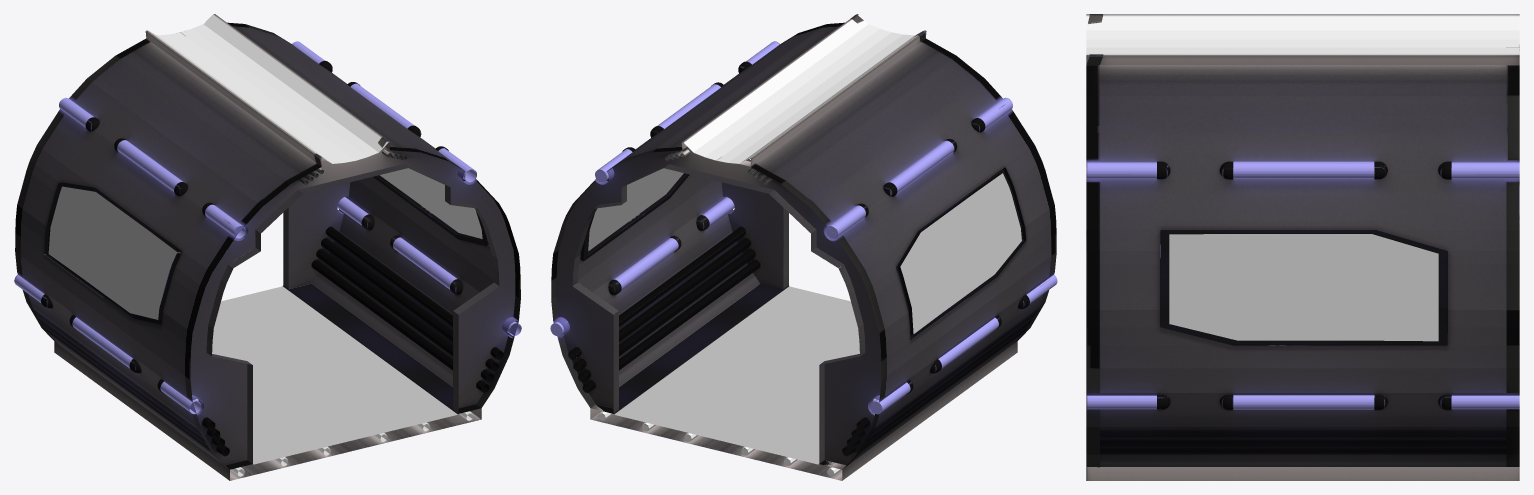
File: Modulo_corridoio.fbx
The picture shows the model from 3 angles, left to right: view 1: azimuth 30°, elevation 25°; view 2: azimuth 150°, elevation 25°; view 3: azimuth 270°, elevation 25°; orthographic projection. The views are drawn at different scales.
Parts seen in each view (by area): view 1: Corridoio_001, Pavimento_001, Vetri; view 2: Corridoio_001, Pavimento_001, Vetri; view 3: Corridoio_001, Vetri.
Boxes of the visible parts, x1=… form: Corridoio_001: x1=14, y1=14, x2=521, y2=480; Pavimento_001: x1=196, y1=286, x2=457, y2=464; Vetri: x1=48, y1=168, x2=482, y2=319; Corridoio_001: x1=550, y1=14, x2=1057, y2=480; Pavimento_001: x1=614, y1=286, x2=875, y2=464; Vetri: x1=588, y1=168, x2=1021, y2=333; Corridoio_001: x1=1086, y1=14, x2=1519, y2=480; Vetri: x1=1169, y1=234, x2=1438, y2=341.
Bounding box in the file's own units: 7.1 × 6.1 × 6.47.
